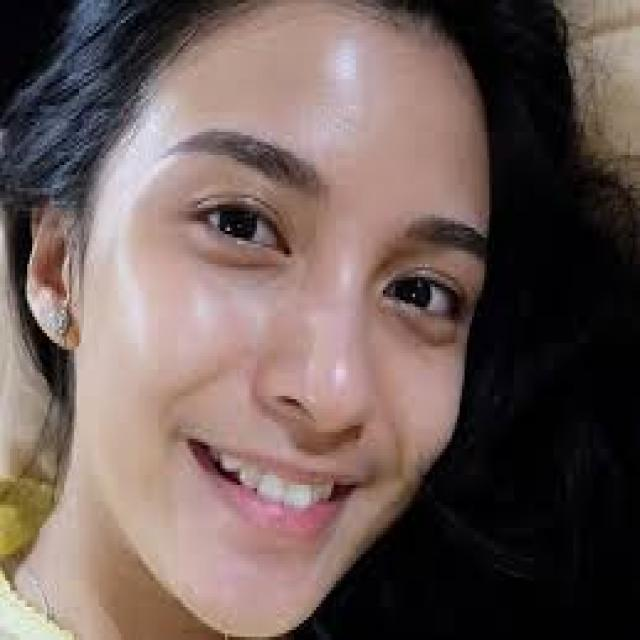Oily-Skin: (302, 353, 375, 425), (119, 262, 190, 336), (314, 32, 376, 108), (322, 254, 381, 309)
